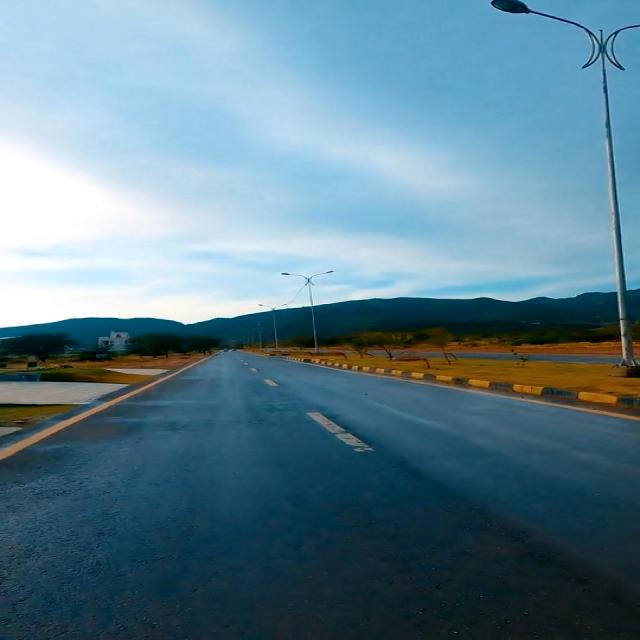lane: (0, 353, 215, 459)
road: (2, 352, 638, 639)
